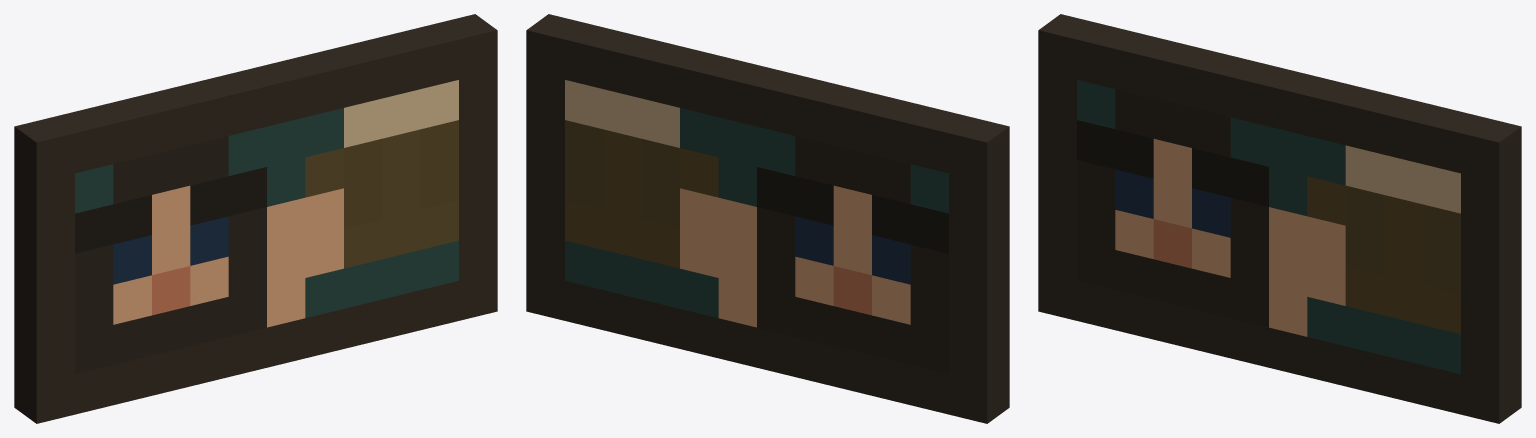
File: tavern-2-painting2.obj
The picture shows the model from 3 angles, left to right: view 1: azimuth 30°, elevation 25°; view 2: azimuth 150°, elevation 25°; view 3: azimuth 330°, elevation 25°; orthographic projection.
Visible parts, largest first — view 1: painting2; view 2: painting2; view 3: painting2.
Boxes of the visible parts, x1,y1,x2,y2 form: painting2: [14, 14, 497, 423]; painting2: [526, 14, 1009, 423]; painting2: [1038, 14, 1521, 423].
Size of the model in its own units: 1.2 by 0.7 by 0.1.
1 material, 1 textured.
